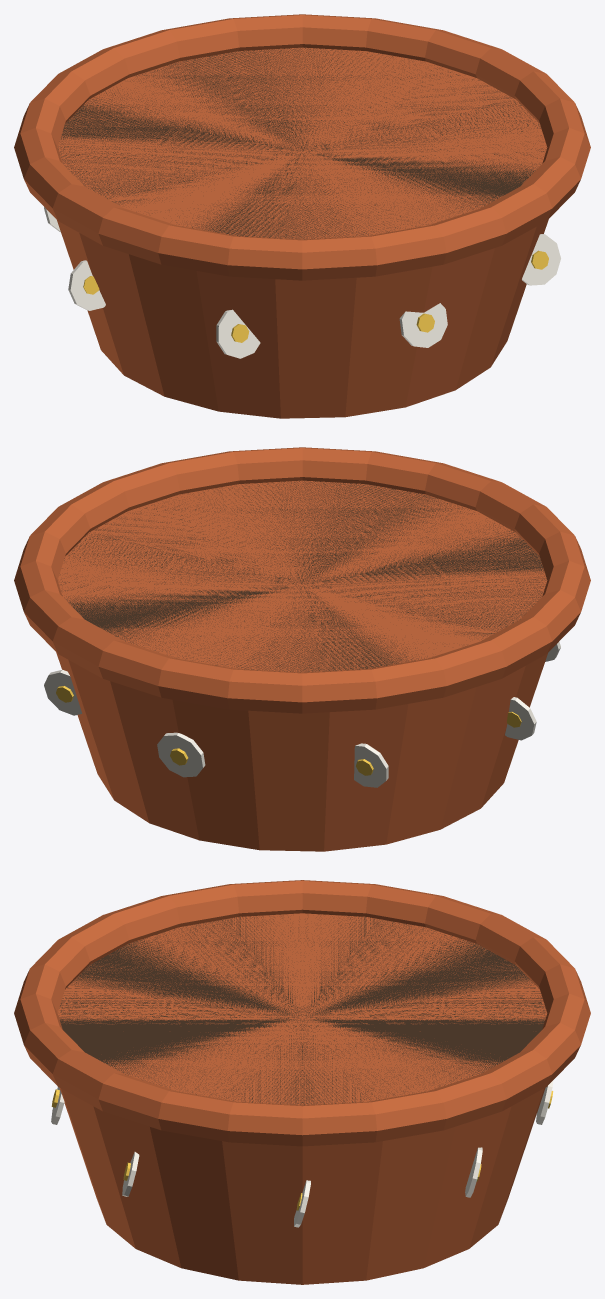
File: dentuda_pot.glb
The picture shows the model from 3 angles, top to bottom: view 1: azimuth 30°, elevation 25°; view 2: azimuth 150°, elevation 25°; view 3: azimuth 270°, elevation 25°; orthographic projection.
Visible parts, largest first — view 1: pot_pot_terracotta, rim_pot_terracotta, soil_pot_soil, daisy_daisy_white, daisy_eye_daisy_yellow; view 2: pot_pot_terracotta, rim_pot_terracotta, soil_pot_soil, daisy_daisy_white, daisy_eye_daisy_yellow; view 3: pot_pot_terracotta, rim_pot_terracotta, soil_pot_soil, daisy_daisy_white.
Part boxes in pixels (x1,y1,x2,y2): pot_pot_terracotta: (57, 47, 548, 418); rim_pot_terracotta: (14, 14, 590, 280); soil_pot_soil: (58, 47, 546, 239); daisy_daisy_white: (44, 207, 560, 358); daisy_eye_daisy_yellow: (83, 250, 548, 342); pot_pot_terracotta: (56, 480, 547, 851); rim_pot_terracotta: (14, 447, 590, 713); soil_pot_soil: (60, 480, 546, 672); daisy_daisy_white: (44, 642, 560, 787); daisy_eye_daisy_yellow: (56, 686, 521, 775); pot_pot_terracotta: (57, 913, 547, 1284); rim_pot_terracotta: (14, 880, 590, 1146); soil_pot_soil: (59, 915, 545, 1105); daisy_daisy_white: (51, 1080, 553, 1227).
Bounding box in the file's own units: 2.38 × 0.93 × 2.38.
